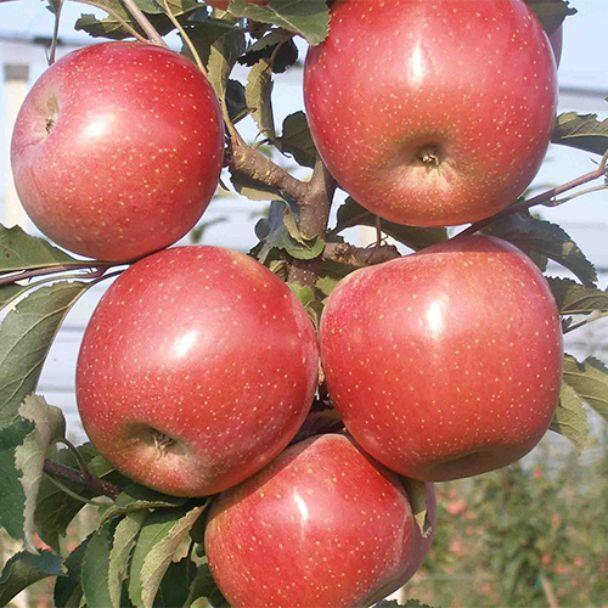fruit: (302, 0, 579, 232), (329, 229, 585, 474), (51, 250, 314, 484), (13, 36, 250, 250), (160, 433, 432, 603)
